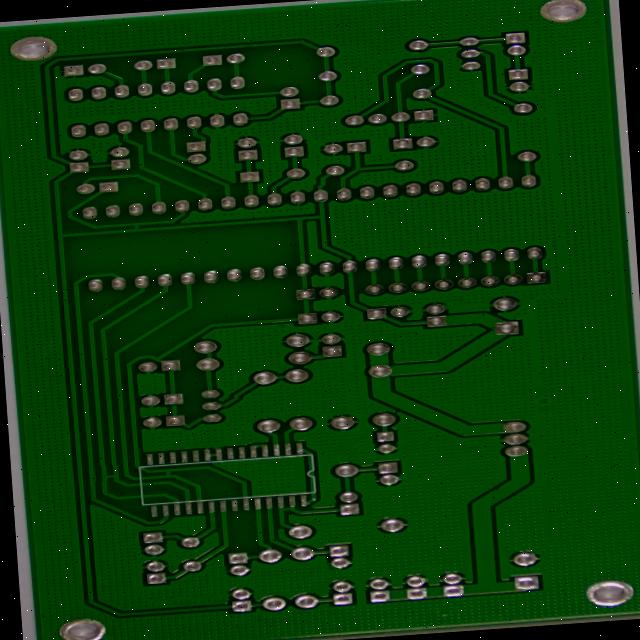short: (55, 207, 84, 225), (92, 464, 119, 482), (24, 468, 50, 483), (230, 503, 248, 512)
